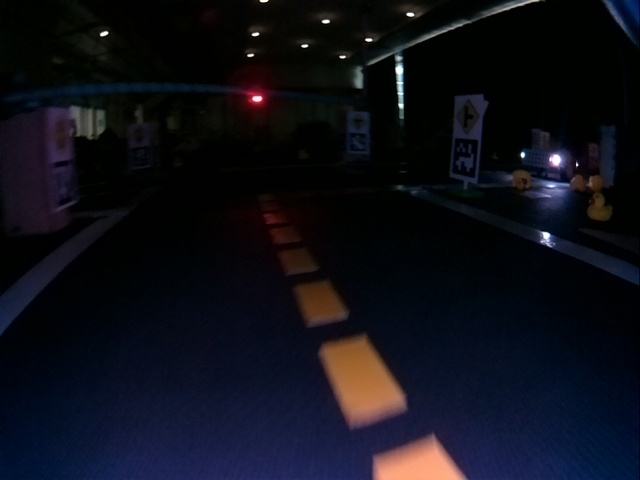Duckie: (588, 194, 613, 221), (514, 170, 530, 189), (572, 175, 584, 190)
Duckiebot: (521, 147, 575, 181)
Intersection sign: (455, 99, 480, 131), (349, 114, 367, 128)
QR code: (51, 160, 76, 206), (452, 138, 476, 179), (347, 133, 368, 154)
Traffic light: (249, 93, 266, 106)
